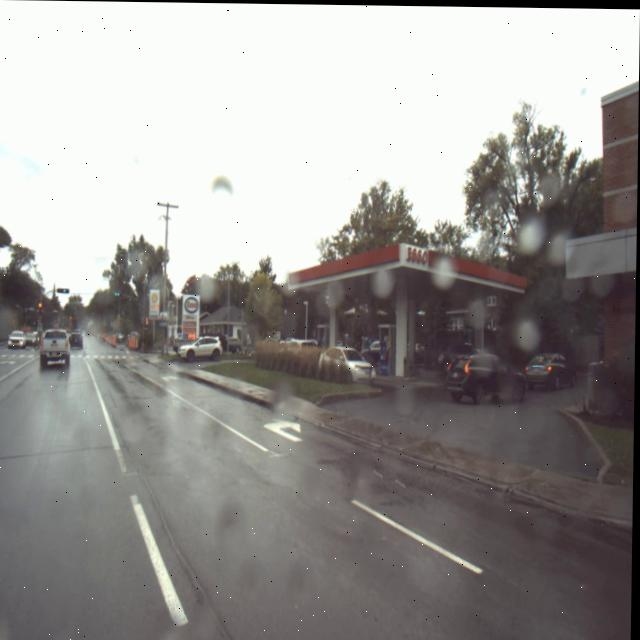car: (447, 351, 529, 403), (319, 345, 376, 385), (523, 350, 578, 390), (39, 329, 72, 373), (179, 335, 223, 360), (9, 331, 27, 349), (71, 331, 85, 351)
trafficLight: (38, 301, 44, 309)
trafficLight-Green: (114, 290, 122, 297), (60, 288, 69, 293)
